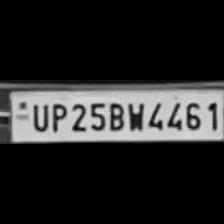1: (202, 98, 222, 130)
2: (67, 100, 87, 132)
4: (162, 98, 182, 130), (146, 98, 164, 130)
5: (86, 100, 106, 132)
6: (182, 98, 202, 130)
B: (105, 100, 124, 132)
P: (48, 101, 68, 133)
U: (28, 100, 50, 132)
W: (124, 98, 146, 132)
